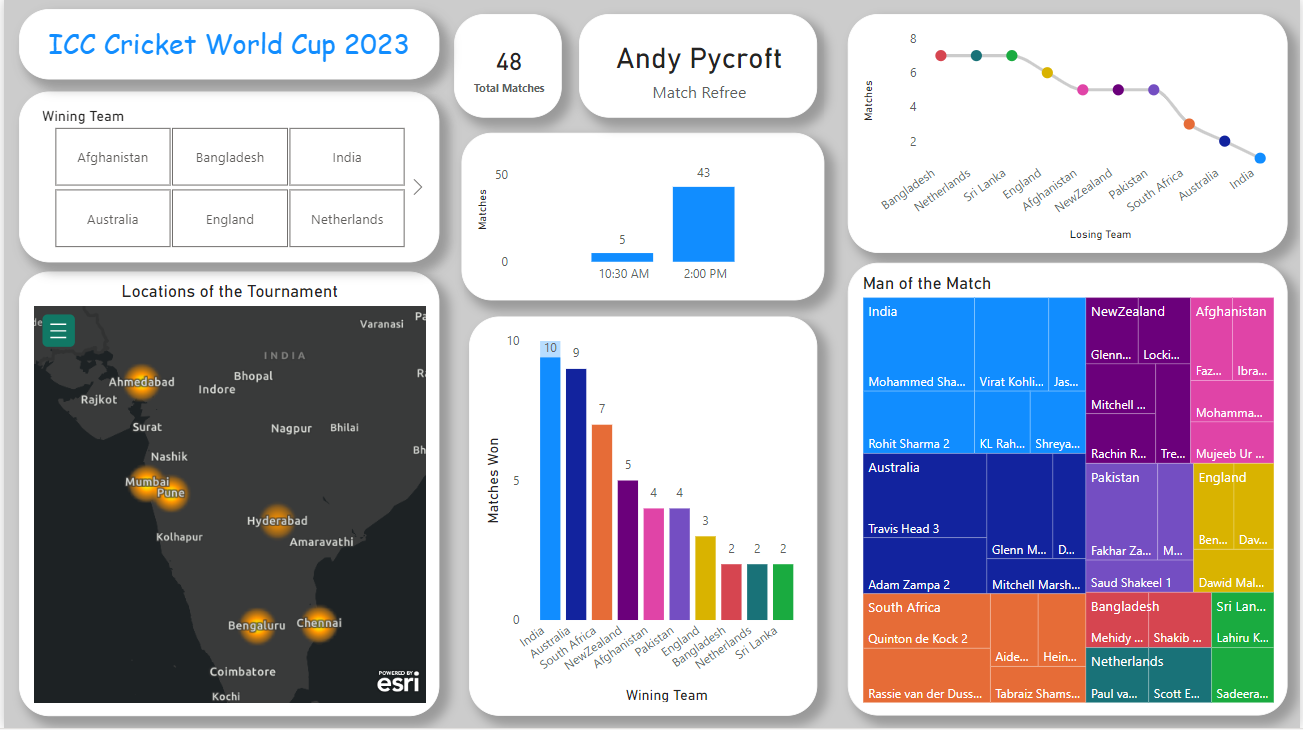

The dashboard page shown, as its layout file describes it:
{"tool":"powerbi","page":{"name":"Page 1","canvas":[1280,720],"ordinal":0},"visuals":[{"type":"card","fields":{"Values":["CWC2023_.Match ID"]},"box":[445,14.5,106.1,102.5],"z":0},{"type":"columnChart","title":"Match Time","fields":{"Category":["CWC2023_.Match Time"],"Y":["CWC2023_.Match ID"]},"box":[452.3,132.7,358.2,165.2],"z":1000},{"type":"lineStackedColumnComboChart","fields":{"Category":["CWC2023_.Wining Team"],"Y":["CWC2023_.Match ID"]},"box":[459.5,313.6,343.7,394.4],"z":2000},{"type":"lineChart","fields":{"Category":["CWC2023_.Losing Team"],"Y":["CWC2023_.Match ID"]},"box":[833.4,14.5,434.2,236.4],"z":3000},{"type":"treemap","title":"Man of the Match","fields":{"Values":["CWC2023_.Man of the Match"],"Group":["CWC2023_.Wining Team"],"Details":["CWC2023_.Man of the Match"]},"box":[833.4,260.5,434.2,447.4],"z":4000},{"type":"esriVisual","title":"Locations of the Tournament","fields":{"Location":["CWC2023_.City"],"Size":["CWC2023_.Match ID"]},"box":[14.5,268.9,414.9,439],"z":5000},{"type":"card","fields":{"Values":["CWC2023_.Match Refree"]},"box":[568,14.5,235.2,102.5],"z":6000},{"type":"slicer","fields":{"Values":["CWC2023_.Wining Team"]},"box":[14.5,91.7,414.9,168.8],"z":7000},{"type":"textbox","box":[14.5,9.6,414.9,69.9],"z":8000}]}

Visuals, with their boxes in screenshot pixels (x1, y1, x2, y2), scaled from the page's 1280x720 canvas onto the 1303x730 screenshot:
card - CWC2023_.Match ID: <region>453, 15, 561, 119</region>
"Match Time" columnChart: <region>460, 135, 825, 302</region>
lineStackedColumnComboChart - CWC2023_.Wining Team x CWC2023_.Match ID: <region>468, 318, 818, 718</region>
lineChart - CWC2023_.Losing Team x CWC2023_.Match ID: <region>848, 15, 1290, 254</region>
"Man of the Match" treemap: <region>848, 264, 1290, 718</region>
"Locations of the Tournament" esriVisual: <region>15, 273, 437, 718</region>
card - CWC2023_.Match Refree: <region>578, 15, 818, 119</region>
slicer - CWC2023_.Wining Team: <region>15, 93, 437, 264</region>
textbox: <region>15, 10, 437, 81</region>
